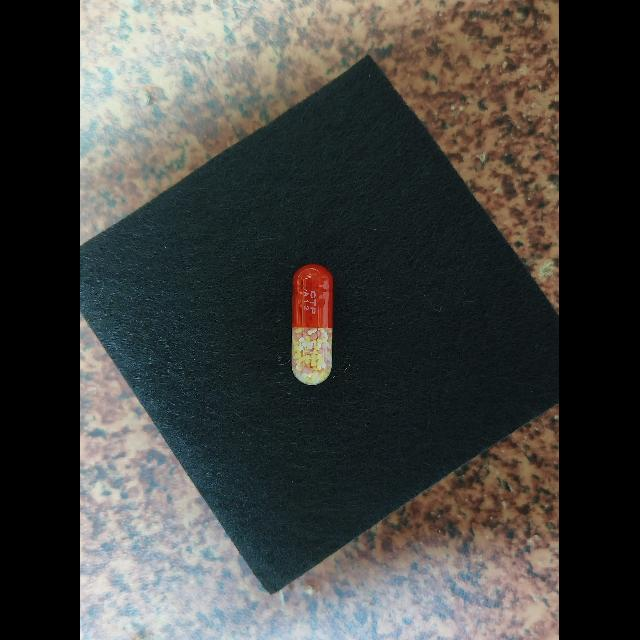Intact Capsule: (292, 264, 334, 385)
